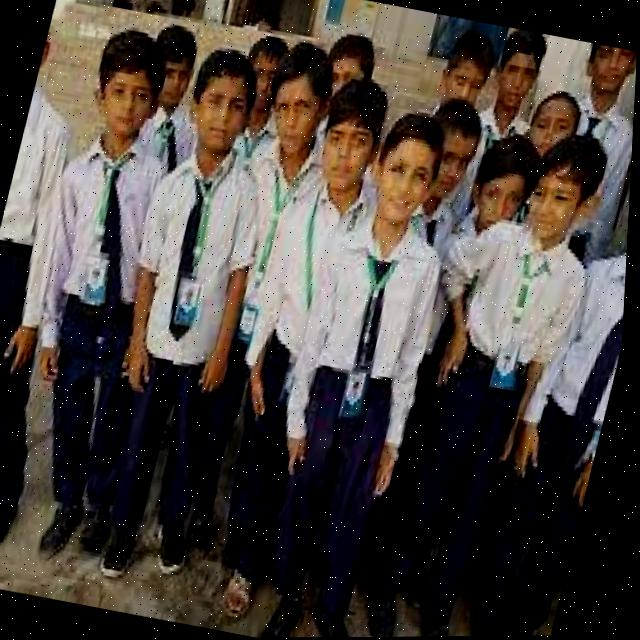id_card: (328, 238, 411, 422), (158, 160, 241, 341), (228, 171, 301, 351), (479, 252, 559, 407), (67, 150, 145, 308), (280, 208, 340, 323)
